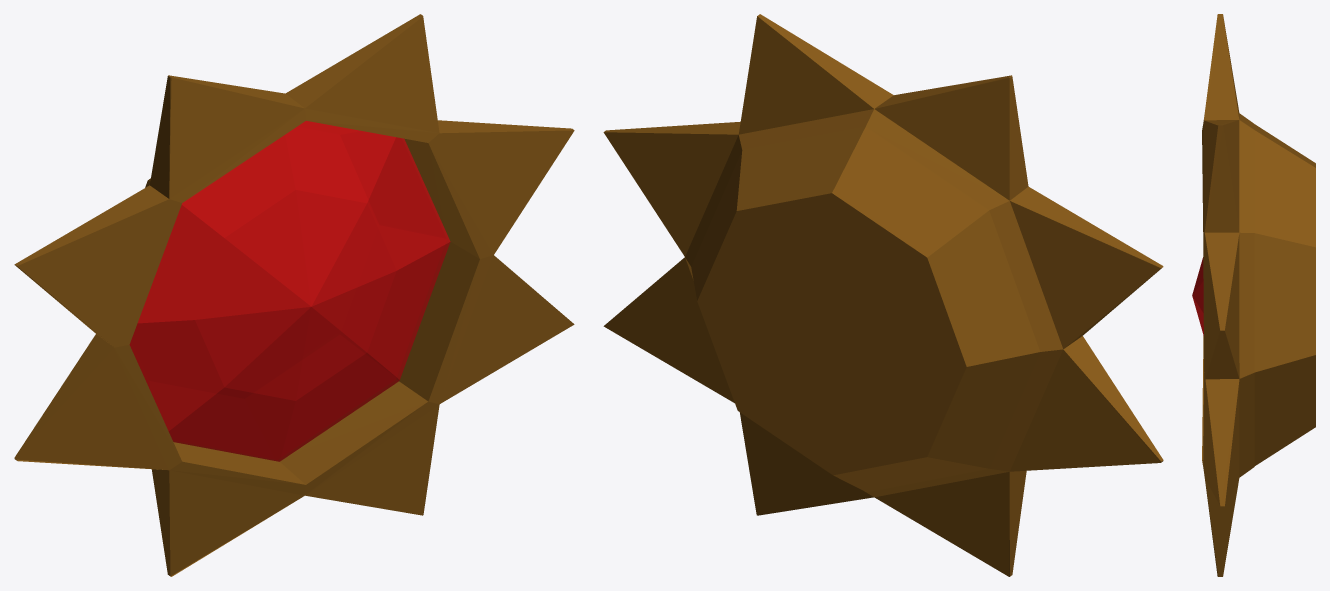
File: gem fixed.FBX
3 views of the same model, side by side, from view 1: azimuth 30°, elevation 25°; view 2: azimuth 150°, elevation 25°; view 3: azimuth 270°, elevation 25° (orthographic). The views are drawn at different scales.
Visible parts, largest first — view 1: Box001, Sphere002; view 2: Box001; view 3: Box001, Sphere002.
Boxes of the visible parts, box(x1,y1,x2,y2) form: Box001: box(14, 14, 574, 576); Sphere002: box(129, 121, 450, 461); Box001: box(603, 14, 1163, 576); Box001: box(1202, 14, 1315, 576); Sphere002: box(1192, 257, 1203, 335).
Size of the model in its own units: 13.41 by 11.48 by 2.85.
